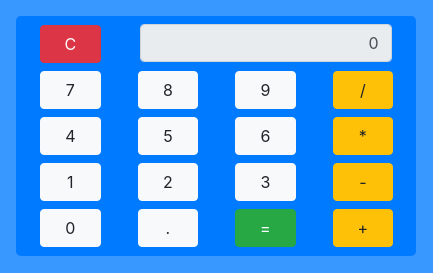
Scenario: Calculator › must clear the calculators display
Step 1. Click the button "2" → (168, 182), box x1=138 y1=163 x2=198 y2=201
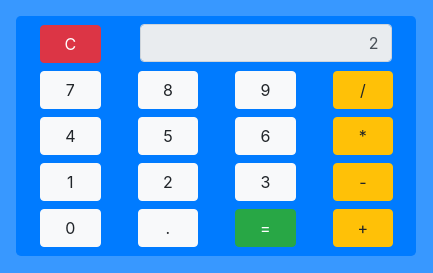
Step 2. Click the button "C" → (70, 44), box x1=40 y1=25 x2=101 y2=63
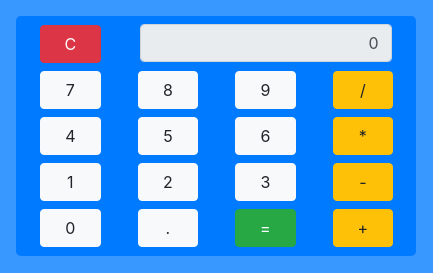
Now the field with test id "result" holds "0", box x1=140 y1=24 x2=392 y2=62
